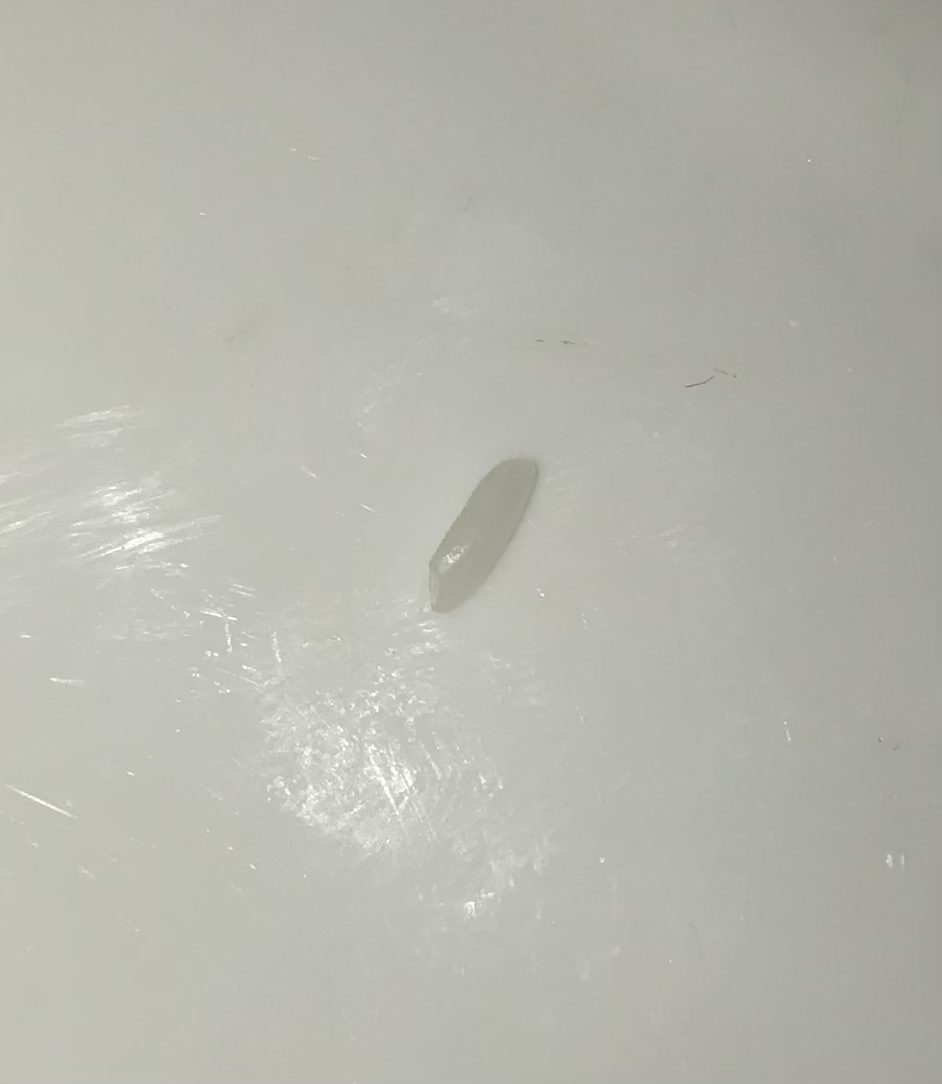Gao Ngoc Troi: (404, 438, 553, 640)
